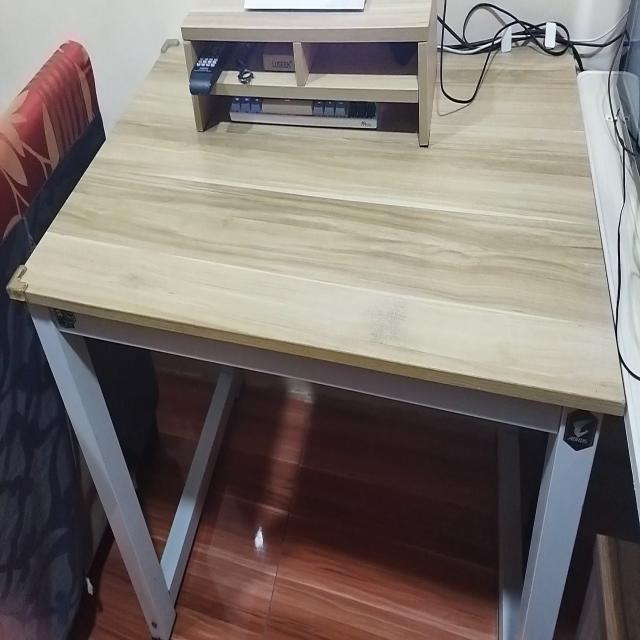table: (11, 25, 618, 640)
